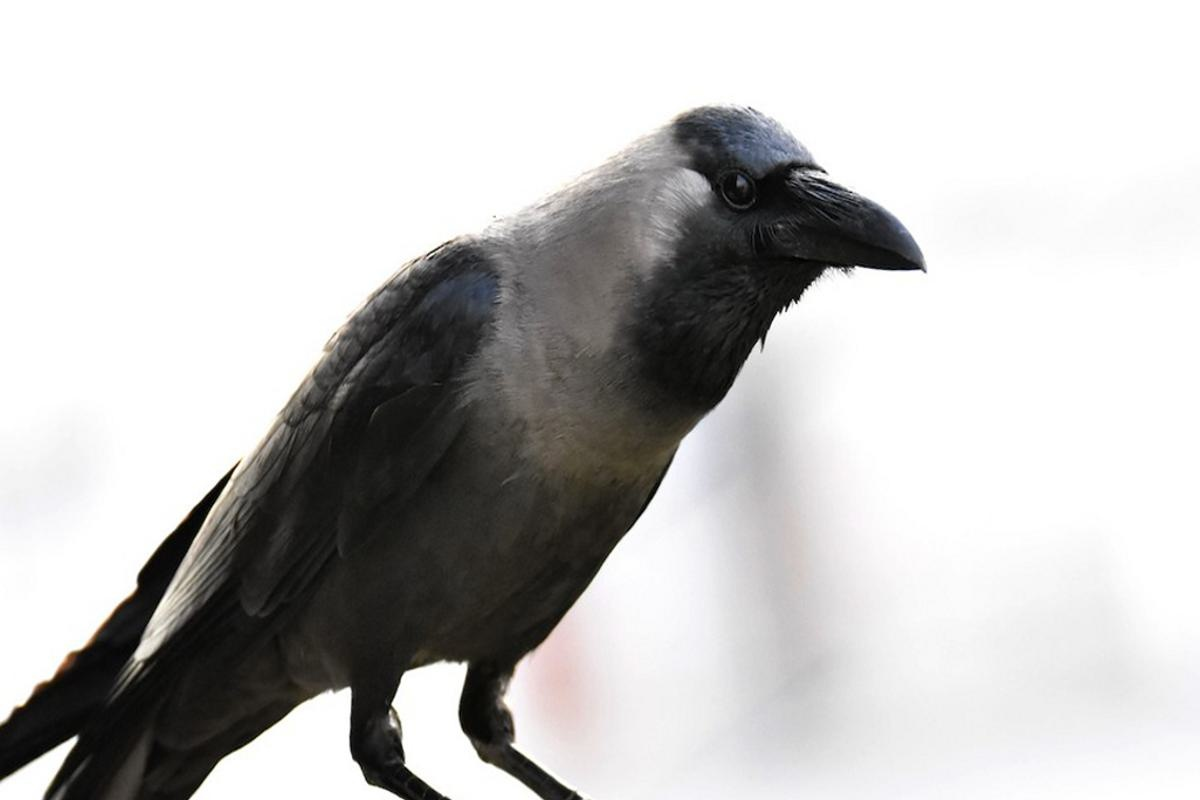crow: (1, 99, 936, 800)
